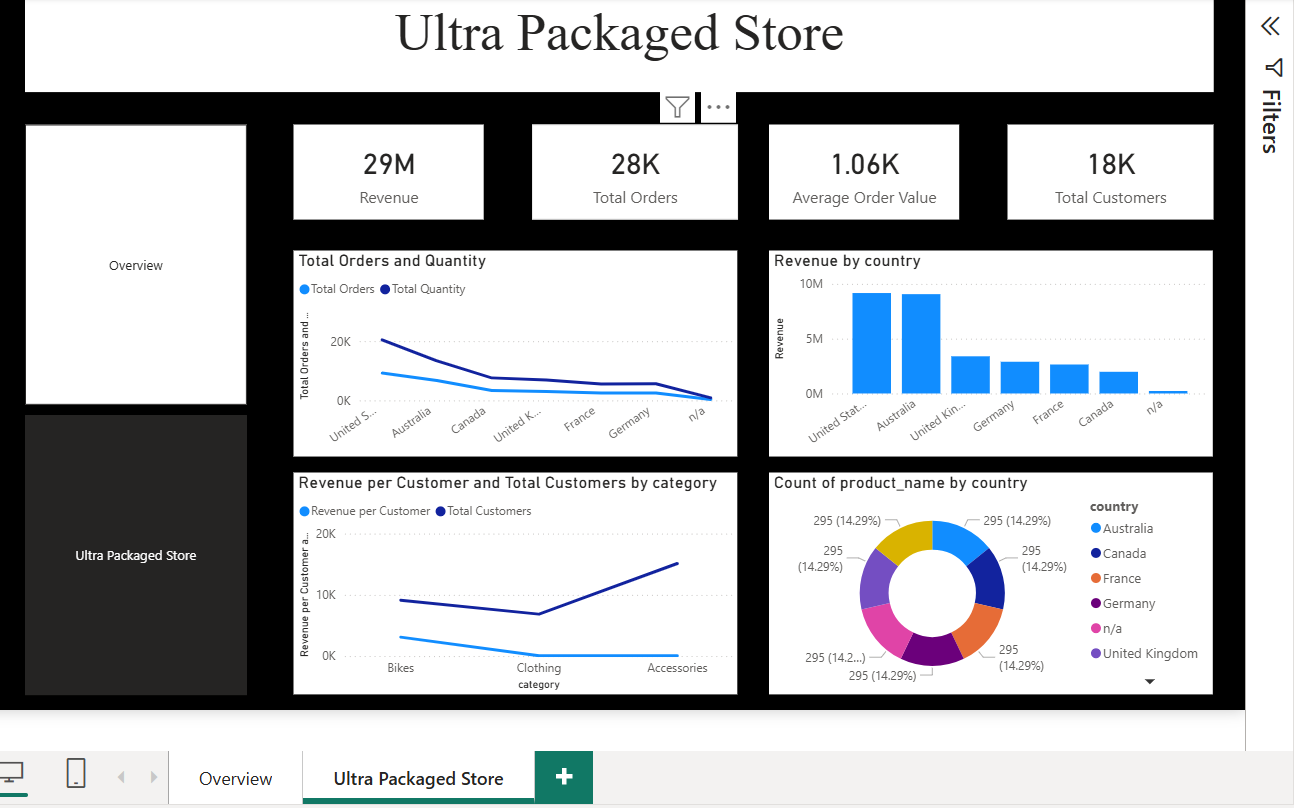

The dashboard page shown, as its layout file describes it:
{"tool":"powerbi","page":{"name":"Ultra Packaged Store","canvas":[1280,720],"ordinal":1},"visuals":[{"type":"lineChart","title":"Total Orders and Quantity ","fields":{"Y":["_measures.Total Orders","_measures.Total Quantity"],"Category":["gold dim_customers.country"]},"box":[320,256,448,208],"z":0},{"type":"clusteredColumnChart","fields":{"Category":["gold dim_customers.country"],"Y":["_measures.Revenue"]},"box":[800,256,448,208],"z":1000},{"type":"donutChart","fields":{"Category":["gold dim_customers.country"],"Y":["CountNonNull(gold dim_products.product_name)"]},"box":[800,480,448,224],"z":2000},{"type":"lineChart","fields":{"Y":["_measures.Revenue per Customer","_measures.Total Customers"],"Category":["gold dim_products.category"]},"box":[320,480,448,224],"z":3000},{"type":"textbox","box":[48,0,1200,96],"z":4000},{"type":"pageNavigator","box":[64,128,224,576],"z":5000},{"type":"card","fields":{"Values":["_measures.Revenue"]},"box":[320,128,192,96],"z":6000},{"type":"card","fields":{"Values":["_measures.Total Orders"]},"box":[560,128,208,96],"z":7000},{"type":"card","fields":{"Values":["_measures.Average Order Value"]},"box":[800,128,192,96],"z":8000},{"type":"card","fields":{"Values":["_measures.Total Customers"]},"box":[1040,128,208,96],"z":9000}]}

Visuals, with their boxes in screenshot pixels (x1, y1, x2, y2):
"Total Orders and Quantity " lineChart: bbox=(285, 248, 732, 456)
clusteredColumnChart - gold dim_customers.country x _measures.Revenue: bbox=(764, 248, 1211, 456)
donutChart - gold dim_customers.country x CountNonNull(gold dim_products.product_name): bbox=(764, 472, 1211, 695)
lineChart - _measures.Revenue per Customer x _measures.Total Customers: bbox=(285, 472, 732, 695)
textbox: bbox=(14, 0, 1211, 89)
pageNavigator: bbox=(30, 121, 253, 695)
card - _measures.Revenue: bbox=(285, 121, 477, 217)
card - _measures.Total Orders: bbox=(525, 121, 732, 217)
card - _measures.Average Order Value: bbox=(764, 121, 955, 217)
card - _measures.Total Customers: bbox=(1003, 121, 1211, 217)
